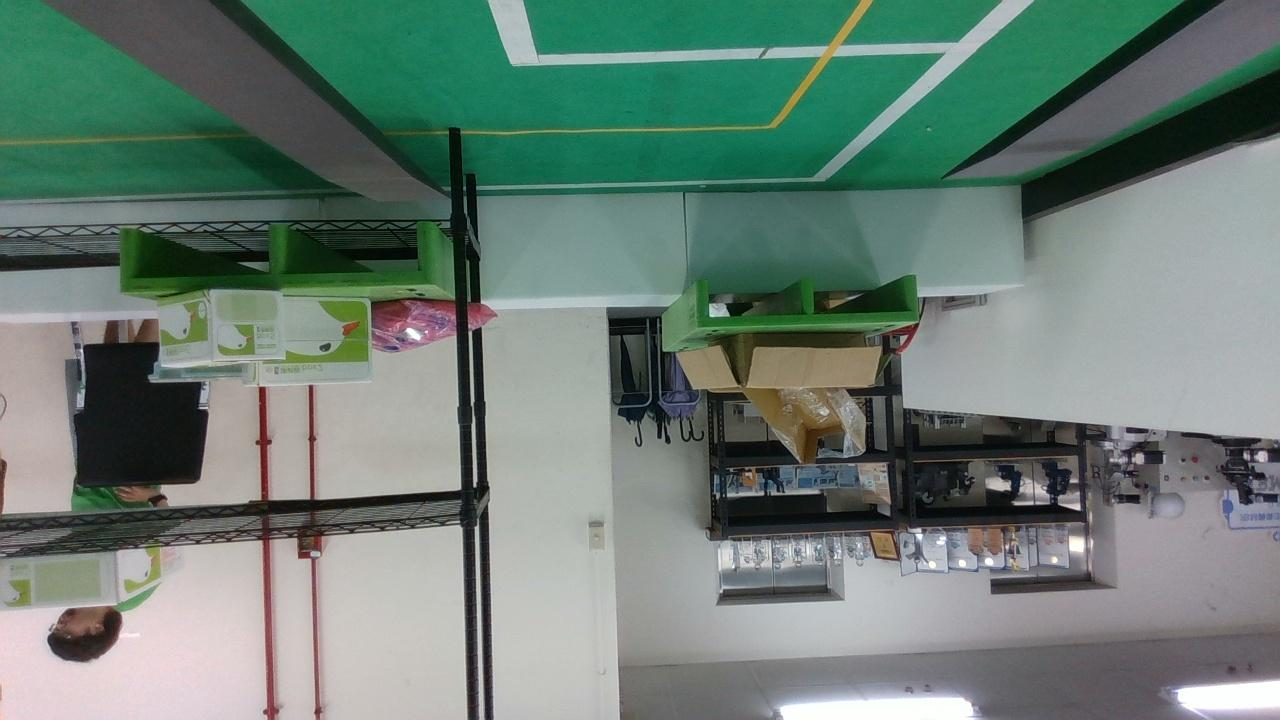Pallet: (121, 220, 439, 295), (696, 275, 919, 329)
